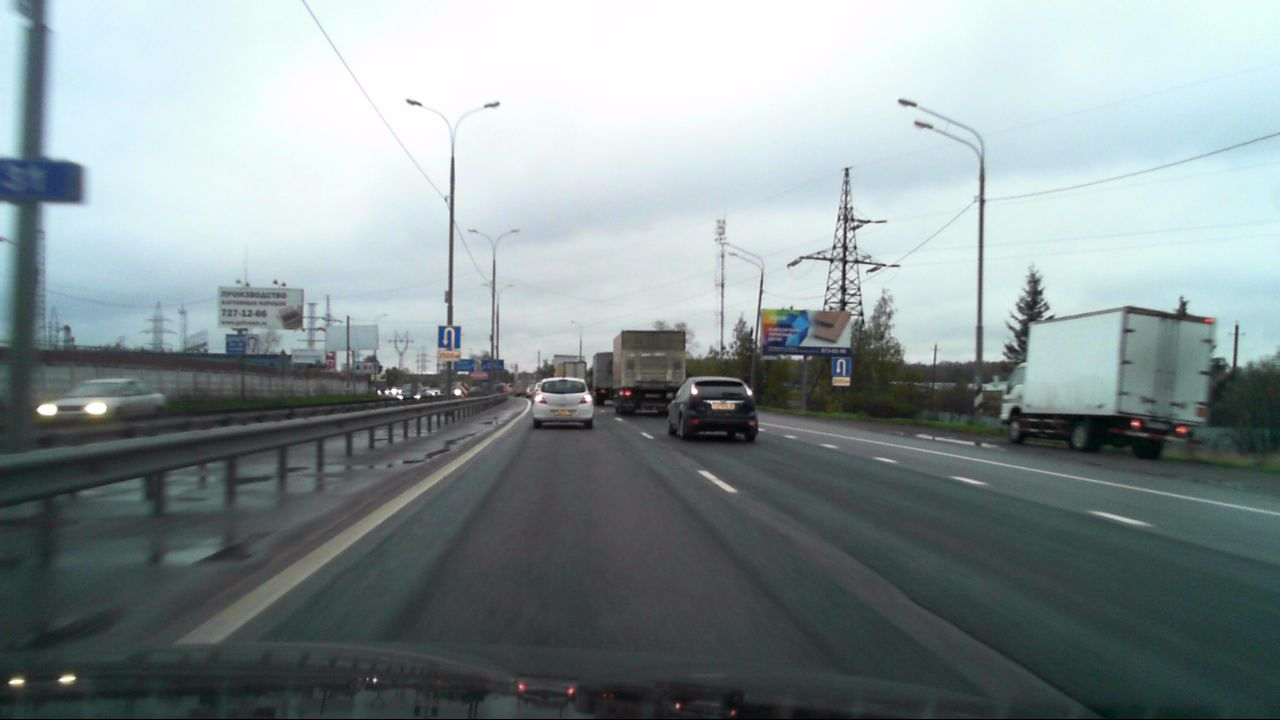U-turn: (438, 326, 461, 349), (832, 358, 850, 376)
